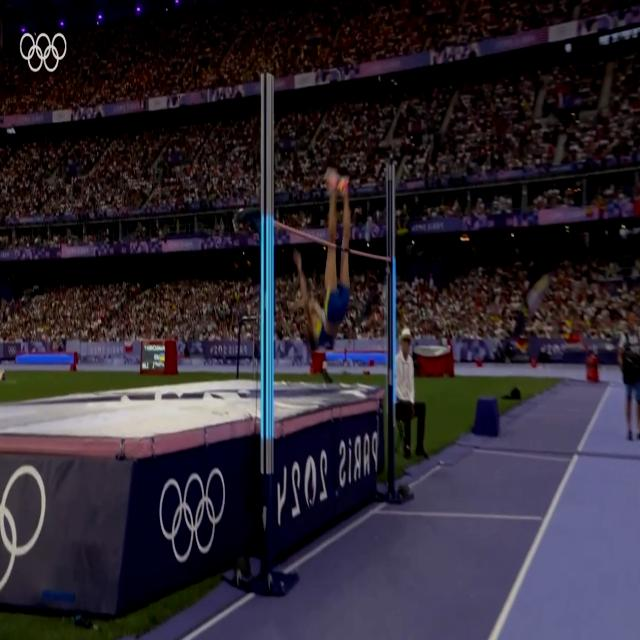land: (292, 165, 353, 353)
